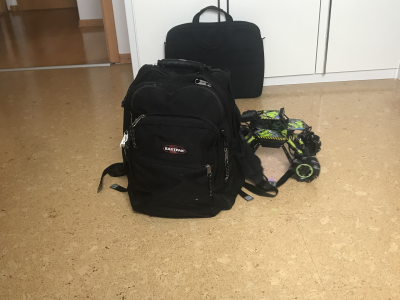remote control car: (234, 105, 323, 184)
